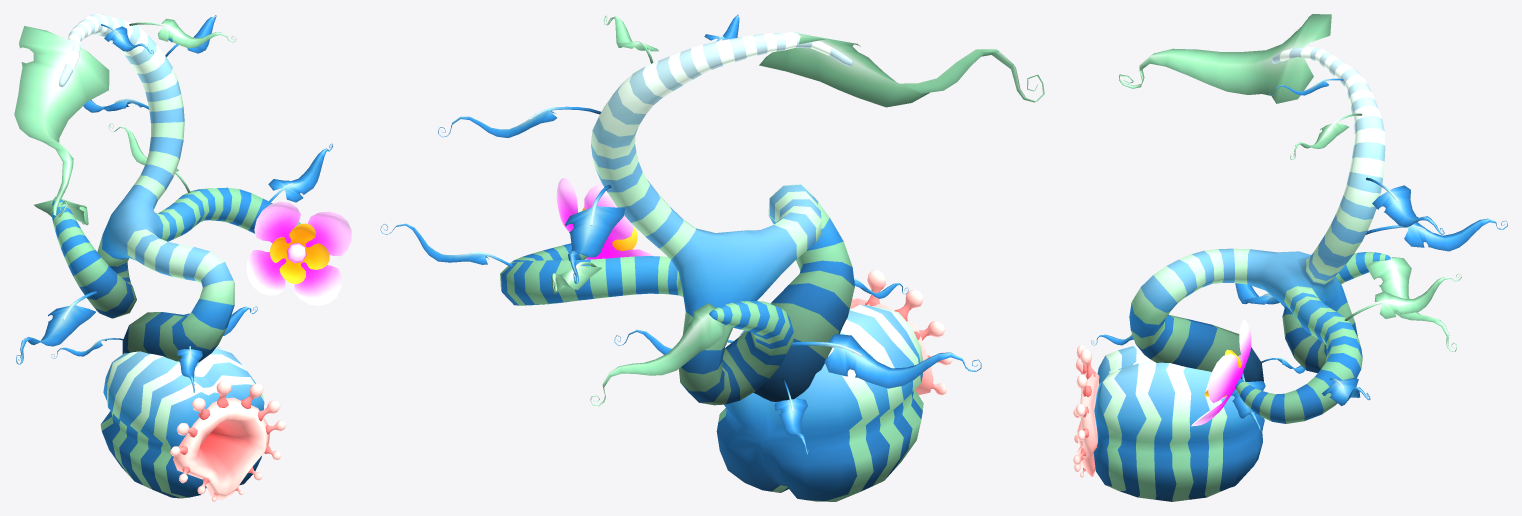
The model's file is striped_anemone.glb.
3 views of the same model, side by side, from view 1: azimuth 30°, elevation 25°; view 2: azimuth 150°, elevation 25°; view 3: azimuth 270°, elevation 25° (orthographic). The views are drawn at different scales.
Visible parts, largest first — view 1: Striped Anemone; view 2: Striped Anemone; view 3: Striped Anemone.
Boxes of the visible parts, left/top/right/bottom form: Striped Anemone: left=14, top=14, right=351, bottom=501; Striped Anemone: left=380, top=14, right=1044, bottom=501; Striped Anemone: left=1073, top=14, right=1507, bottom=501.
Size of the model in its own units: 1.52 by 1.55 by 1.41.
Materials: 1 (1 with a texture image).
